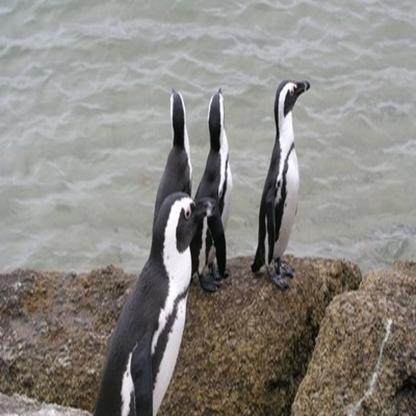Penguin: (89, 186, 226, 415), (247, 49, 311, 308), (133, 75, 199, 286), (186, 85, 235, 288)
